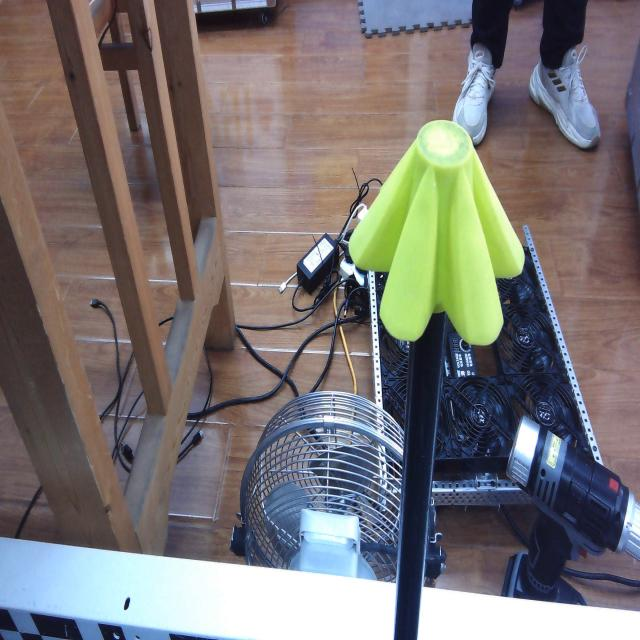Yellow-Stake-Head: (348, 115, 526, 348)
